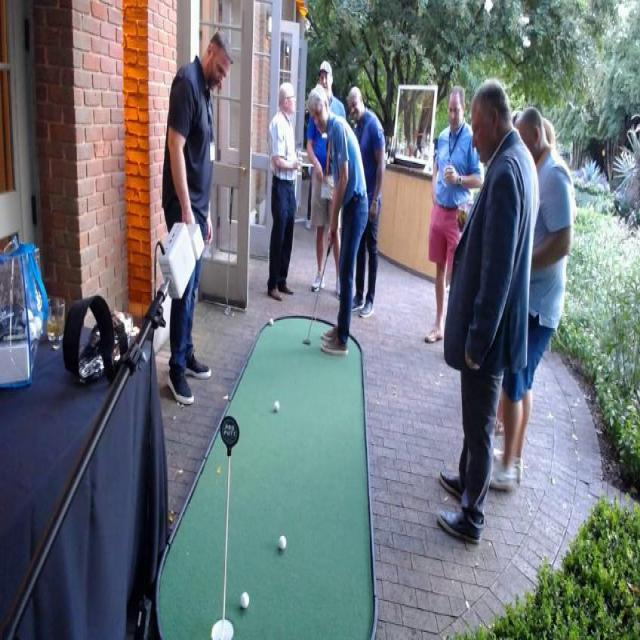ClubHead: (300, 329, 315, 351)
GolfBall: (273, 529, 291, 556), (234, 589, 254, 612), (268, 396, 283, 414), (266, 312, 276, 332)
